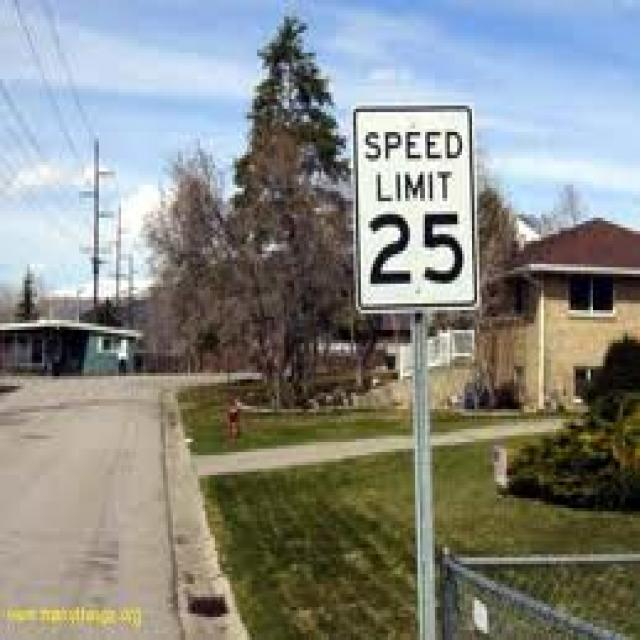regulatory: (351, 85, 483, 320)
